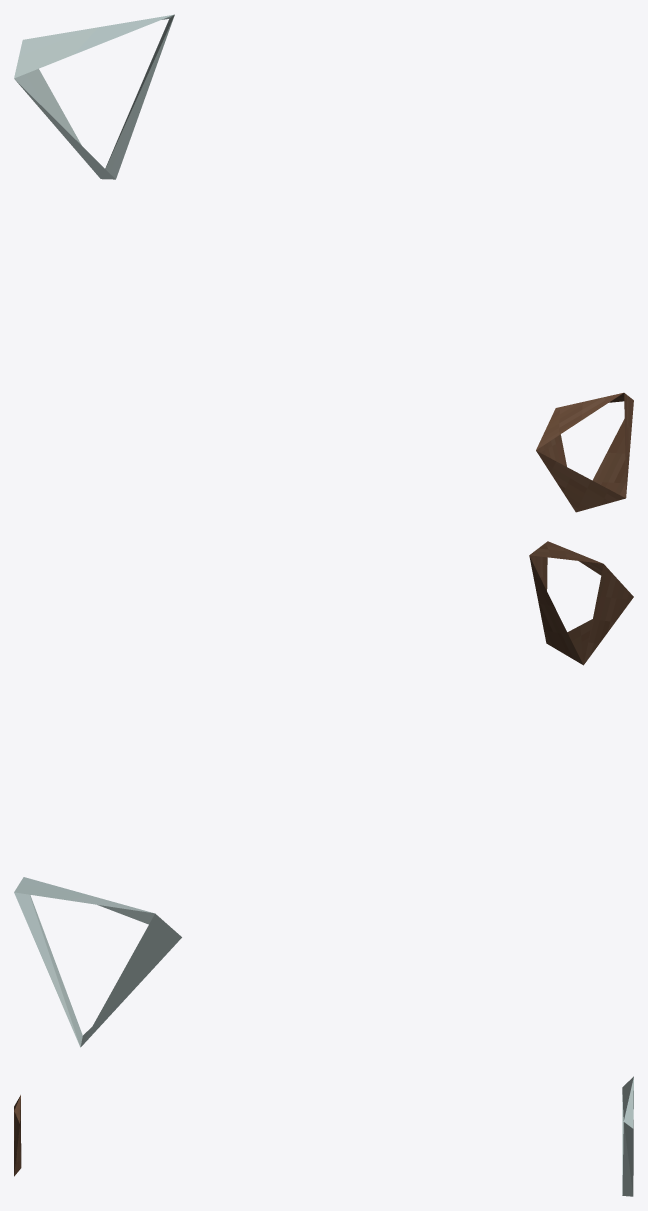
File: ohdrq-11m00000000610388-geode.glb
3 views of the same model, one above another, from view 1: azimuth 30°, elevation 25°; view 2: azimuth 150°, elevation 25°; view 3: azimuth 270°, elevation 25° (orthographic). The views are drawn at different scales.
Parts seen in each view (by area): view 1: Node; view 2: Node; view 3: Node.
Part boxes in pixels (x1,y1,x2,y2): Node: (14, 14, 633, 512); Node: (14, 541, 633, 1047); Node: (14, 1076, 633, 1196).
Size of the model in its own units: 0.2431 by 0.2229 by 1.29.
1 material, 1 textured.
